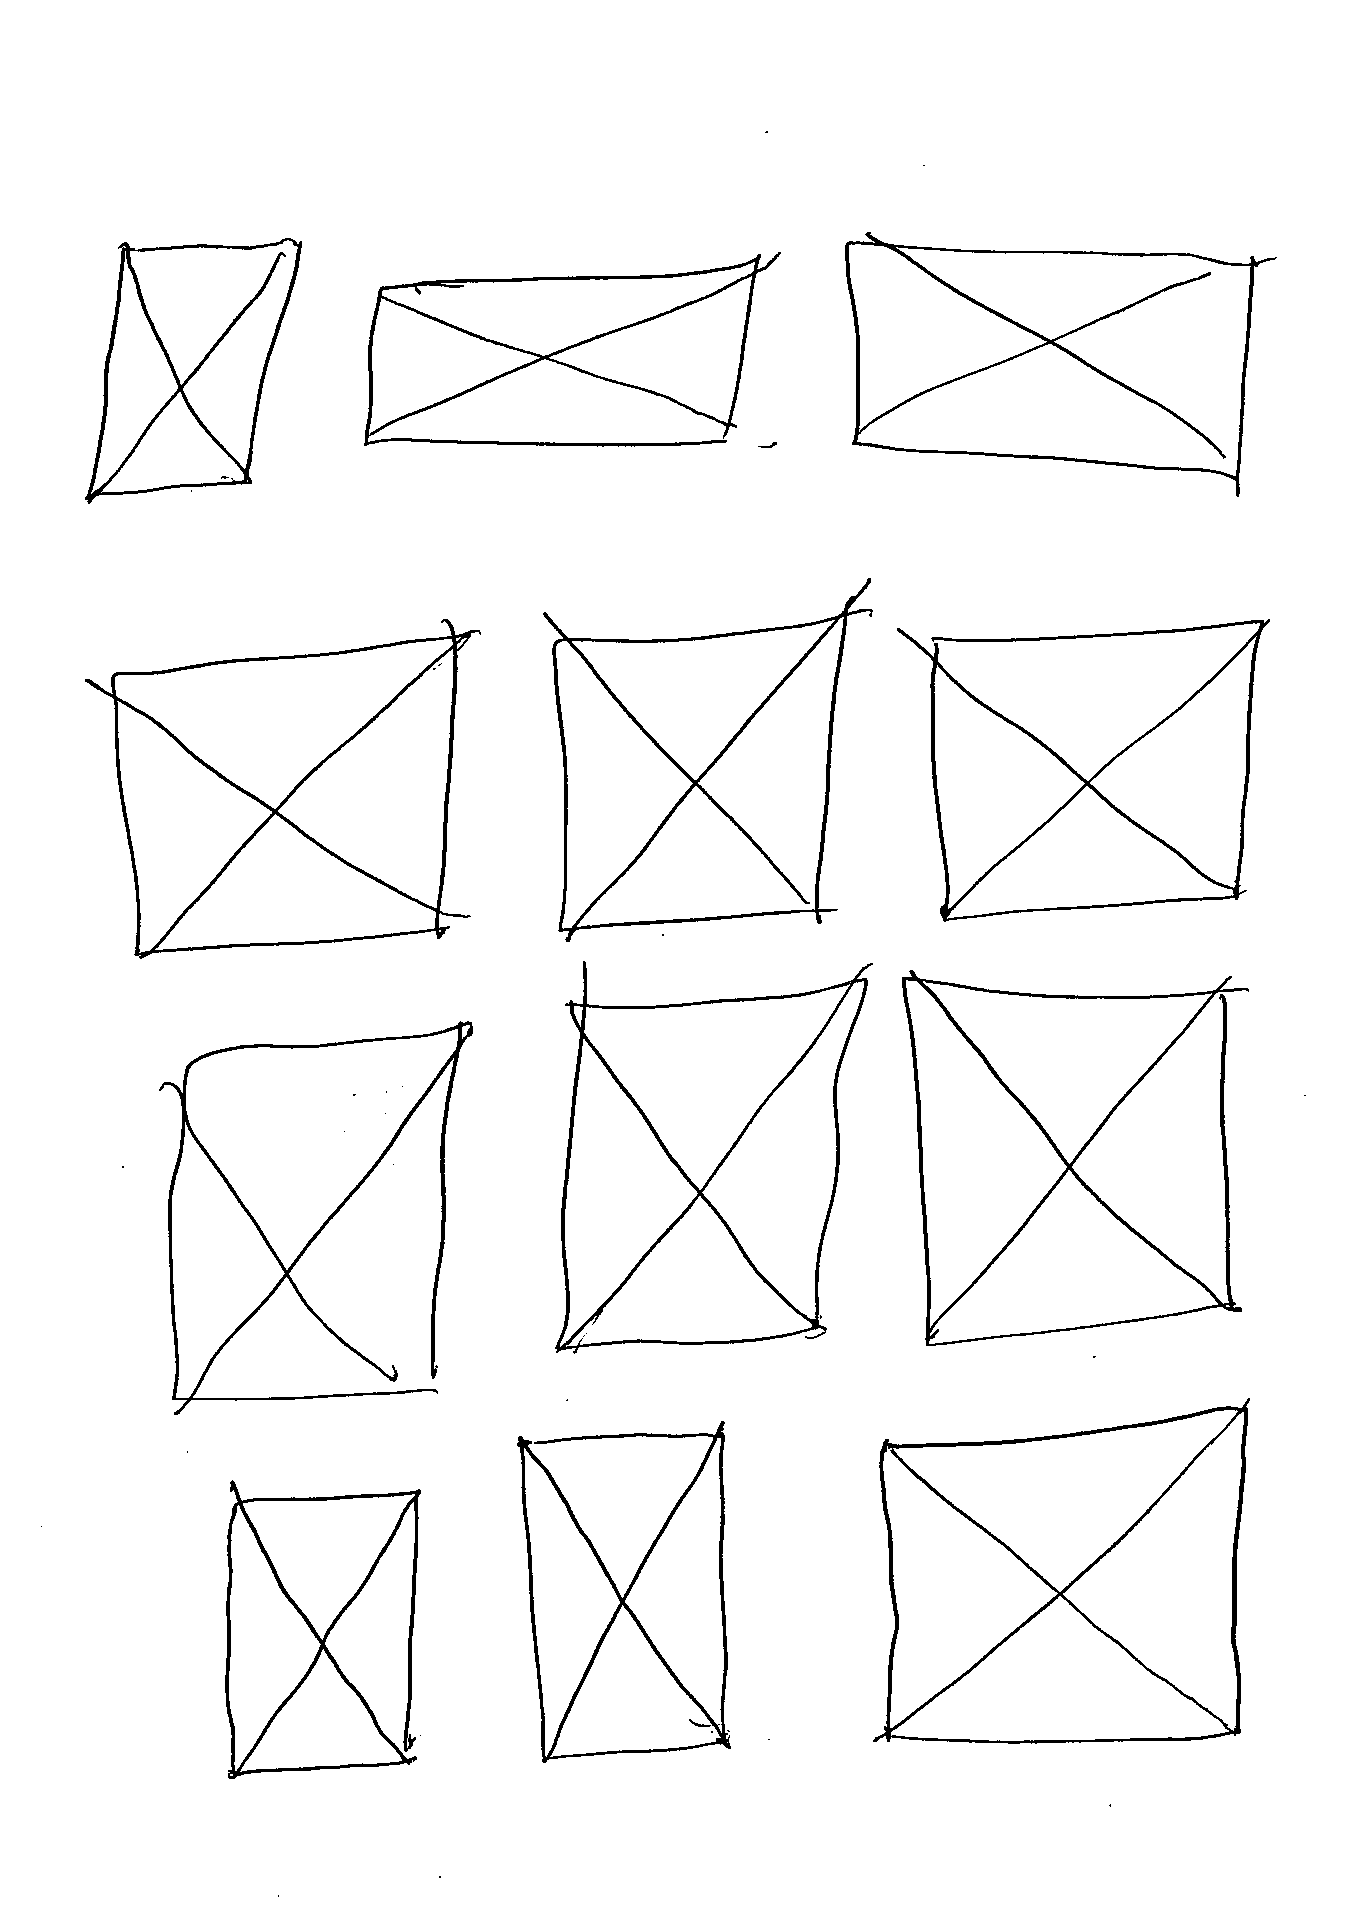Image: (871, 1403, 1254, 1748), (553, 967, 877, 1356), (900, 976, 1236, 1350), (106, 620, 469, 963), (160, 1020, 472, 1412), (924, 612, 1268, 923), (843, 229, 1265, 482), (927, 615, 1268, 926), (548, 603, 856, 937), (359, 250, 767, 455), (514, 1425, 733, 1762), (80, 229, 303, 506), (217, 1484, 424, 1782)
